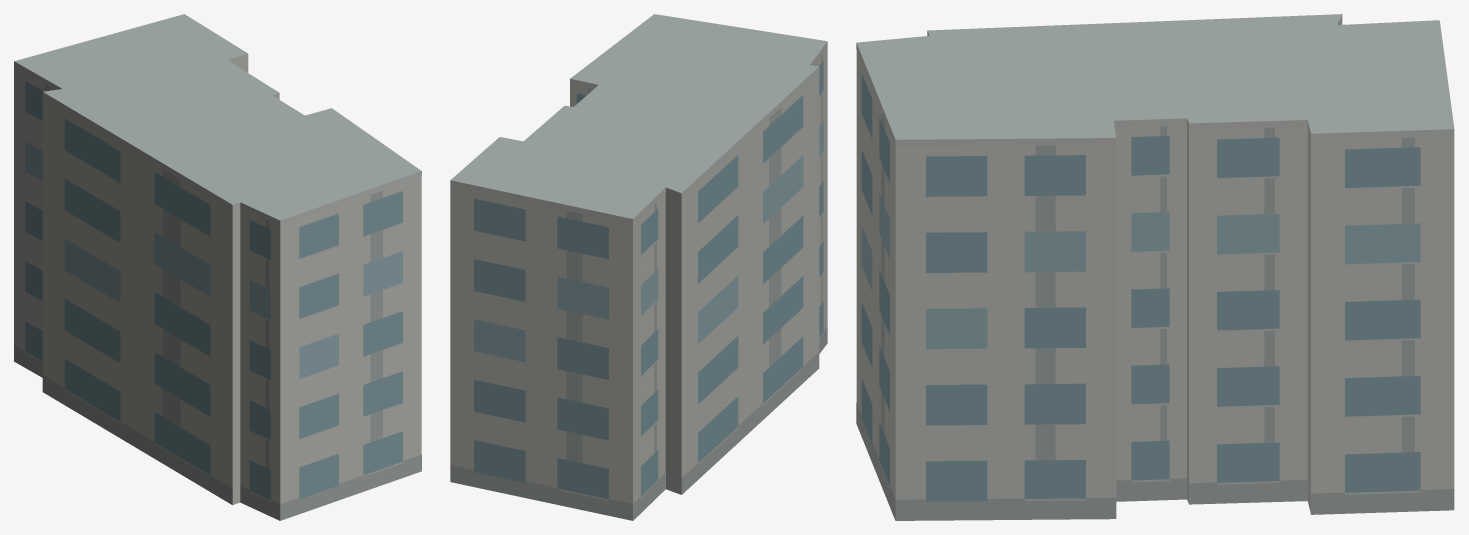
File: survey-upis-32531212.glb
3 renders of one model, left to right at view 1: azimuth 30°, elevation 25°; view 2: azimuth 150°, elevation 25°; view 3: azimuth 270°, elevation 25°, orthographic. The views are drawn at different scales.
Parts seen in each view (by area): view 1: survey-upis-32531212.tmp; view 2: survey-upis-32531212.tmp; view 3: survey-upis-32531212.tmp.
Part boxes in pixels (bbox=[...]): survey-upis-32531212.tmp: bbox=[14, 14, 421, 520]; survey-upis-32531212.tmp: bbox=[450, 14, 827, 520]; survey-upis-32531212.tmp: bbox=[856, 14, 1454, 520].
Bounding box in the file's own units: 9.14 × 12.9 × 18.36.
